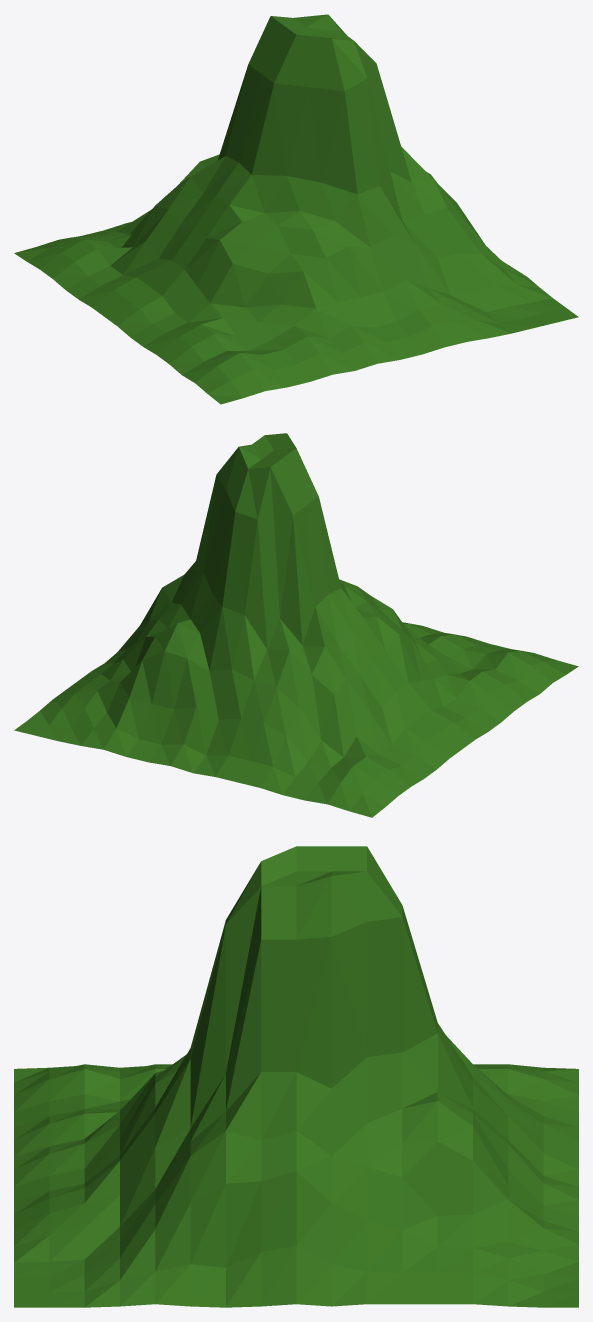
The model's file is ground2.fbx.
3 views of the same model, one above another, from view 1: azimuth 30°, elevation 25°; view 2: azimuth 150°, elevation 25°; view 3: azimuth 270°, elevation 25° (orthographic). The views are drawn at different scales.
Parts seen in each view (by area): view 1: Plane; view 2: Plane; view 3: Plane.
Part boxes in pixels (<box>): Plane: <box>14,14,578,404</box>; Plane: <box>14,433,578,817</box>; Plane: <box>14,846,578,1307</box>.
Size of the model in its own units: 100 by 66.79 by 100.
Materials: 1 (1 with a texture image).
